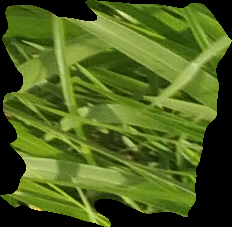grass: (1, 1, 231, 226)
